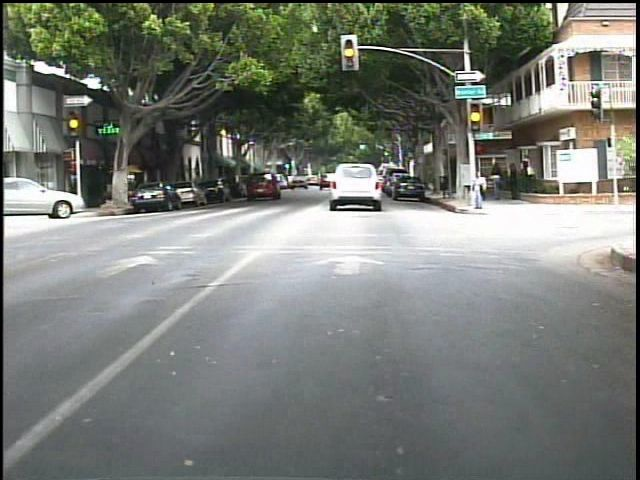person: (467, 167, 489, 213), (519, 153, 536, 192), (491, 161, 507, 202), (507, 163, 522, 204)
